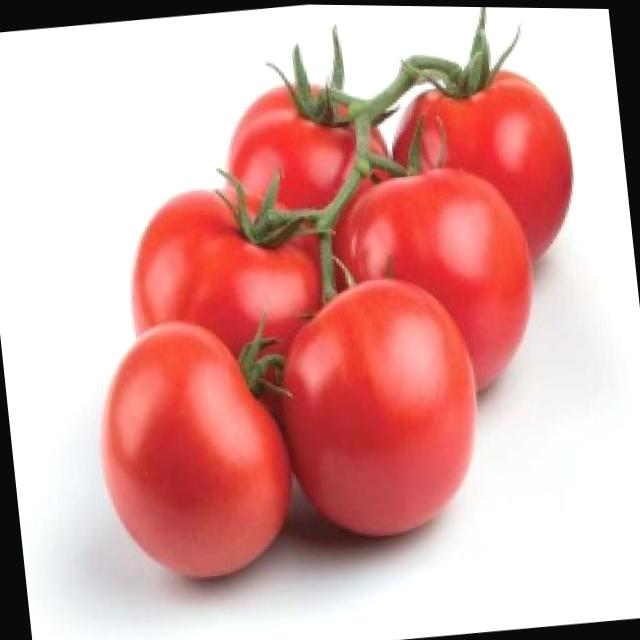tomato: (272, 273, 492, 546), (331, 148, 545, 406), (90, 321, 298, 583), (380, 63, 582, 271), (123, 176, 327, 363), (213, 52, 401, 248)
